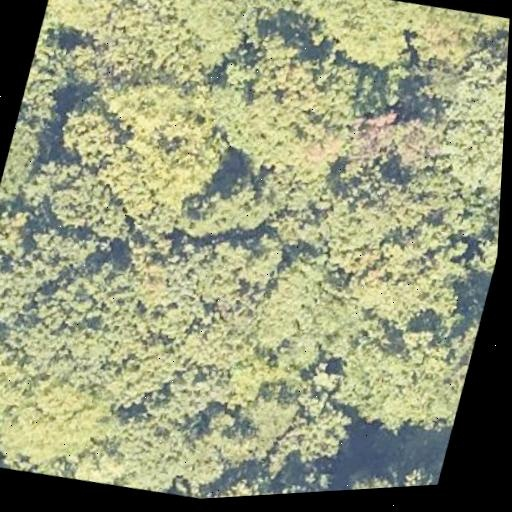tree-top: (192, 13, 397, 194), (69, 55, 254, 231), (0, 213, 171, 379), (319, 281, 484, 449), (127, 230, 284, 385), (324, 165, 492, 308), (0, 343, 150, 494), (205, 354, 366, 492), (107, 355, 238, 504), (405, 24, 509, 209), (246, 246, 375, 380), (294, 0, 446, 88), (17, 26, 116, 132), (36, 0, 195, 66), (168, 163, 274, 255), (167, 0, 272, 83), (213, 444, 341, 498), (0, 106, 62, 211), (331, 443, 443, 491), (0, 313, 31, 455)
